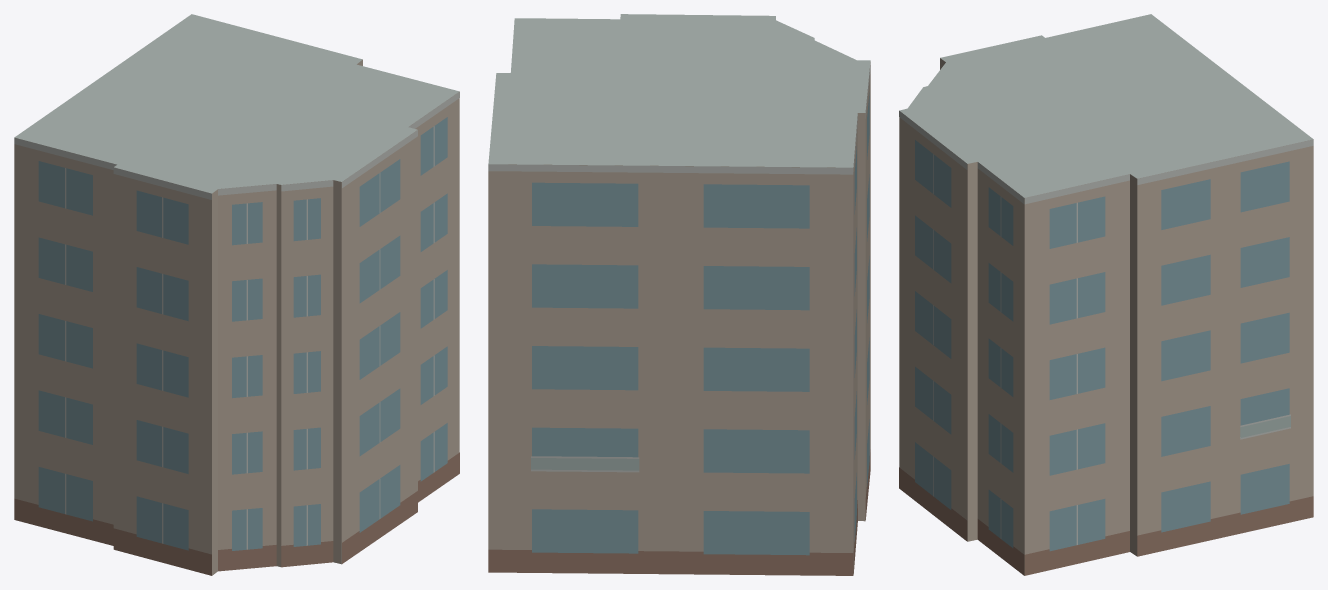
File: survey-upis-32670790.glb
3 views of the same model, side by side, from view 1: azimuth 30°, elevation 25°; view 2: azimuth 150°, elevation 25°; view 3: azimuth 270°, elevation 25° (orthographic). The views are drawn at different scales.
Parts seen in each view (by area): view 1: survey-upis-32670790.tmp; view 2: survey-upis-32670790.tmp; view 3: survey-upis-32670790.tmp.
Part boxes in pixels (x1,y1,x2,y2): survey-upis-32670790.tmp: (14, 14, 459, 575); survey-upis-32670790.tmp: (488, 14, 870, 575); survey-upis-32670790.tmp: (899, 14, 1313, 575).
Size of the model in its own units: 14.89 by 14.25 by 14.17.
